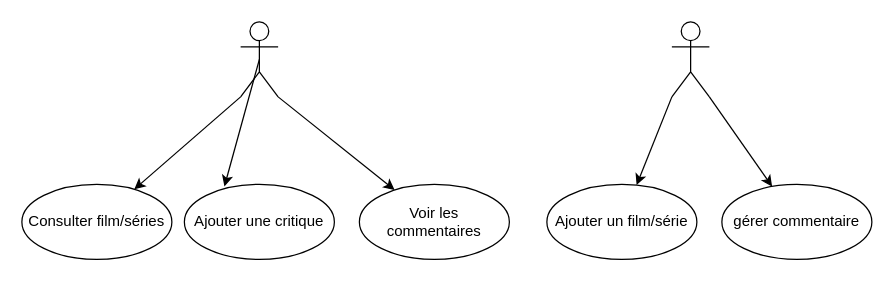
Image size: 894x281. Some labels were removed from this diagram. The centre of each missing label's shape, as x and y in pixels:
Administrateur: (x=690, y=59)
Utilisateur: (x=258, y=59)
